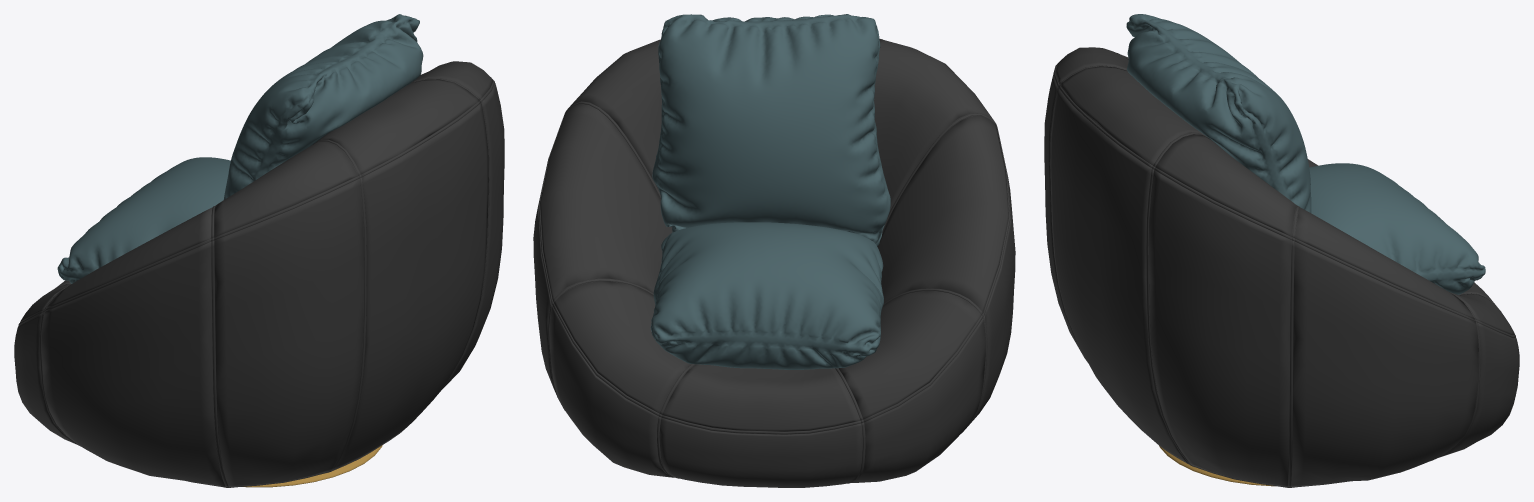
File: 懒骨头.fbx
3 views of the same model, side by side, from view 1: azimuth 30°, elevation 25°; view 2: azimuth 150°, elevation 25°; view 3: azimuth 270°, elevation 25° (orthographic). The views are drawn at different scales.
Visible parts, largest first — view 1: G_3DGeom_2, G_3DGeom_3, G_3DGeom_1; view 2: G_3DGeom_2, G_3DGeom_3; view 3: G_3DGeom_2, G_3DGeom_3.
Part boxes in pixels (<box>): G_3DGeom_2: <box>14,61,504,487</box>; G_3DGeom_3: <box>57,14,423,283</box>; G_3DGeom_1: <box>243,445,382,487</box>; G_3DGeom_2: <box>533,38,1015,487</box>; G_3DGeom_3: <box>650,14,890,369</box>; G_3DGeom_2: <box>1044,47,1519,487</box>; G_3DGeom_3: <box>1126,14,1485,294</box>.
Bounding box in the file's own units: 1087 × 945 × 1001.
